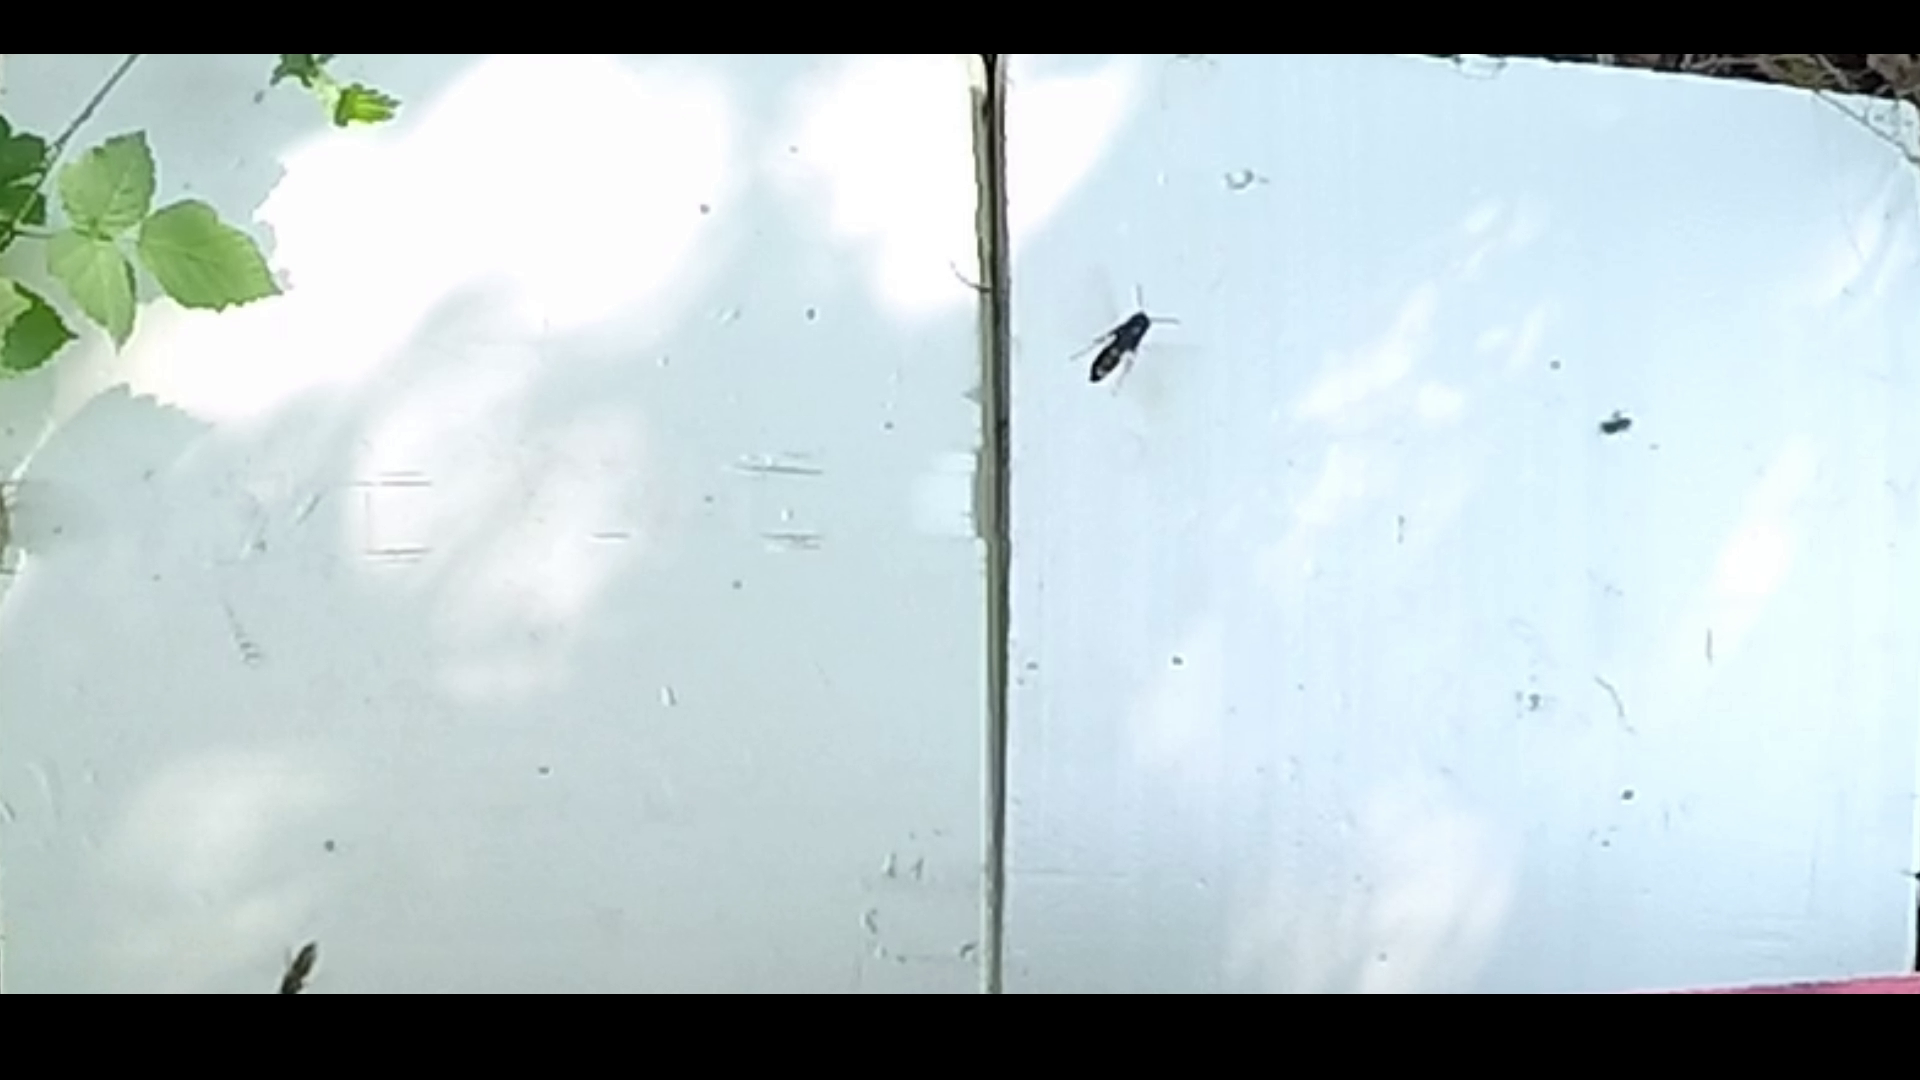Asian_hornets: (1052, 270, 1198, 409)
